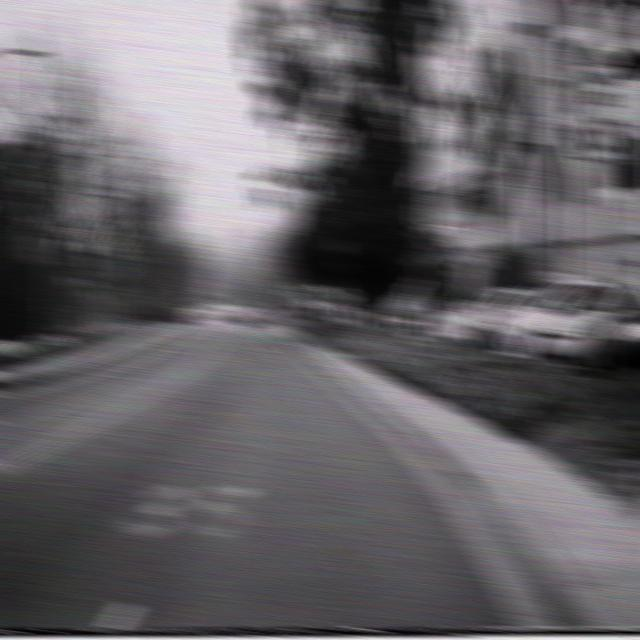speedLimit35: (575, 59, 629, 162)
